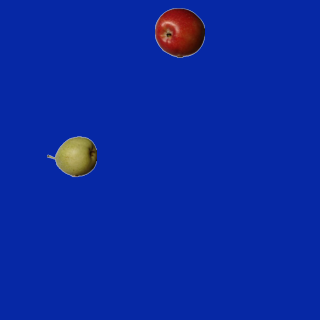Apple Braeburn: (154, 7, 204, 57)
Pear: (46, 131, 96, 181)
